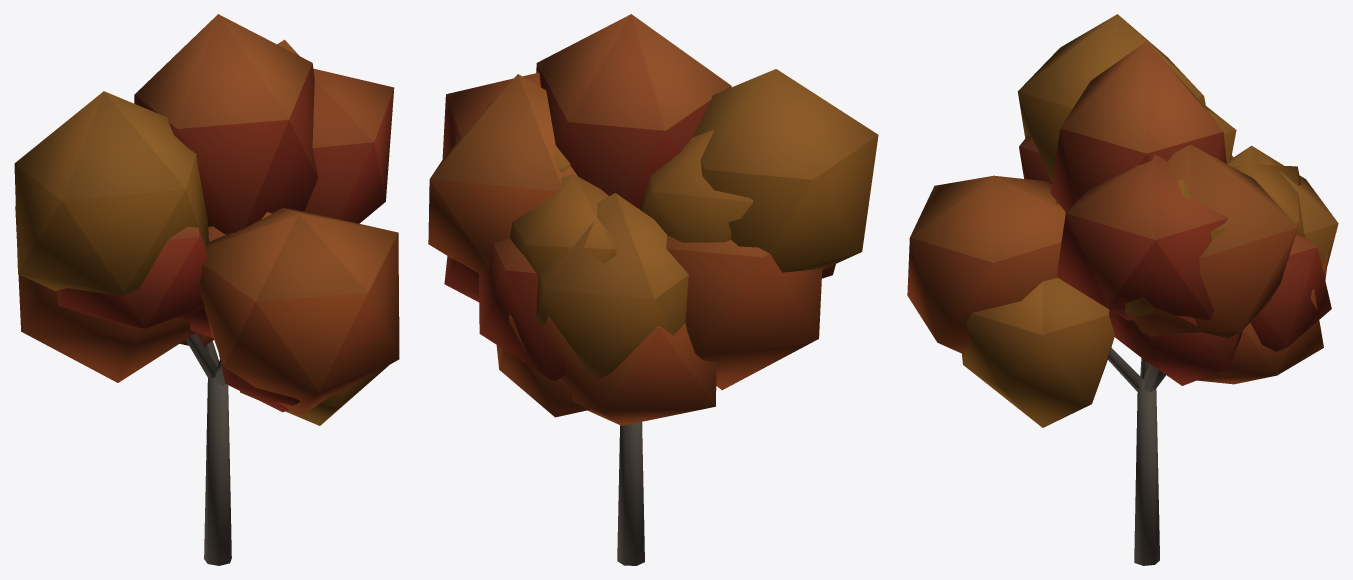
Rendered from env_maple_t_aut.glb.
3 renders of one model, left to right at view 1: azimuth 30°, elevation 25°; view 2: azimuth 150°, elevation 25°; view 3: azimuth 270°, elevation 25°, orthographic. The views are drawn at different scales.
Parts seen in each view (by area): view 1: env_maple_t_aut; view 2: env_maple_t_aut; view 3: env_maple_t_aut.
Part boxes in pixels (x1=…): env_maple_t_aut: x1=14, y1=14, x2=399, y2=565; env_maple_t_aut: x1=428, y1=14, x2=878, y2=565; env_maple_t_aut: x1=907, y1=14, x2=1338, y2=565.
Size of the model in its own units: 13.43 by 17.7 by 13.33.
